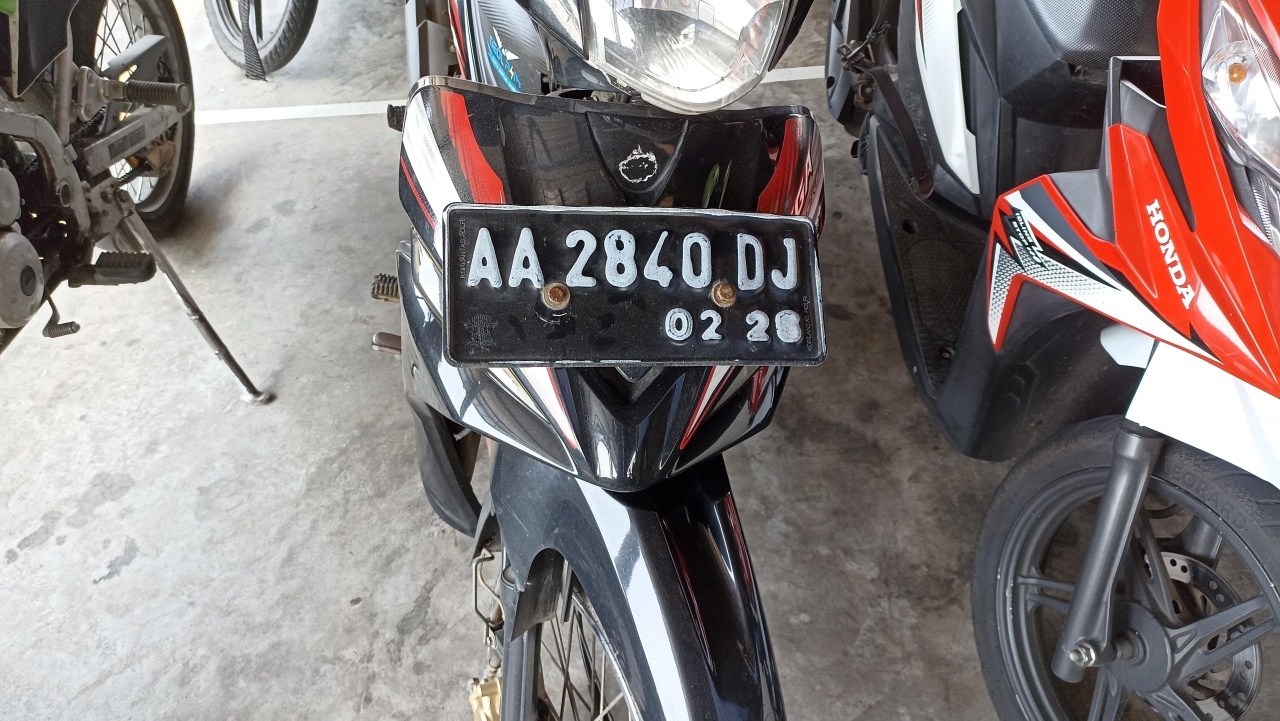plate: (448, 208, 825, 363)
